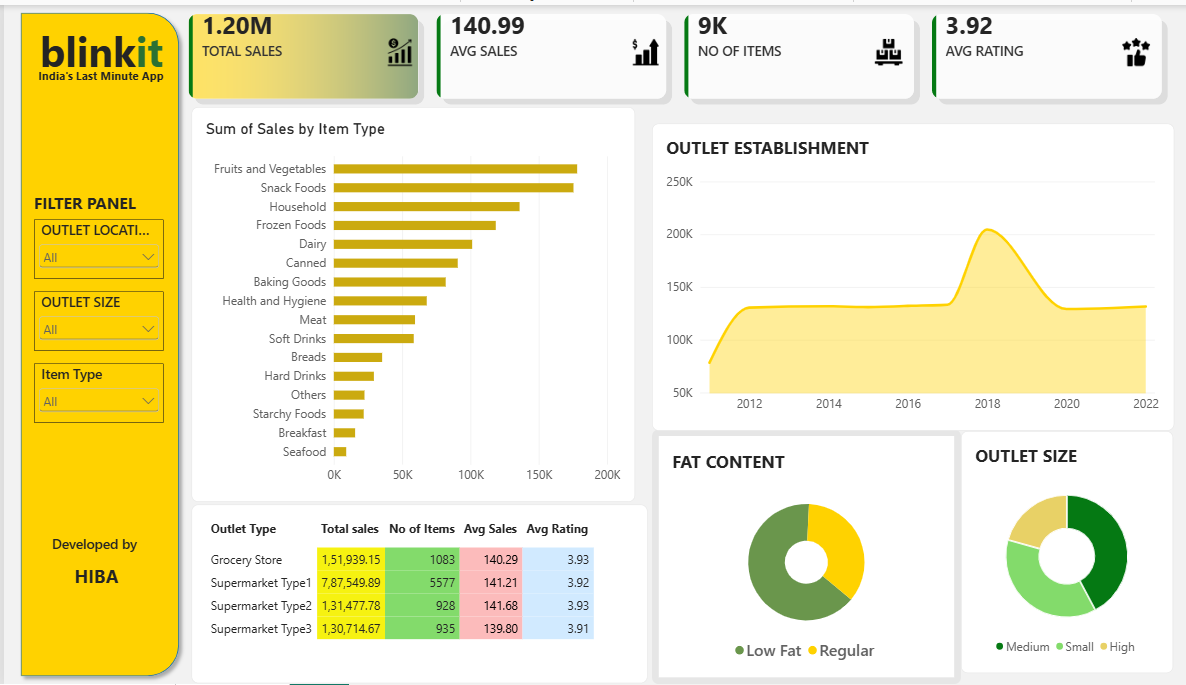

The dashboard page shown, as its layout file describes it:
{"tool":"powerbi","page":{"name":"BLINKIT DASHBOARD","canvas":[1400,800],"ordinal":0},"visuals":[{"type":"shape","box":[10.3,0,204.6,799.9],"z":0},{"type":"textbox","box":[35.1,20.7,159.2,64.1],"z":1000},{"type":"textbox","box":[41.3,72.3,173.6,22.7],"z":2000},{"type":"cardVisual","fields":{"Data":["BlinkIT Grocery Data.Total sales","BlinkIT Grocery Data.Avg Sales","BlinkIT Grocery Data.No of Items","BlinkIT Grocery Data.Avg Rating"]},"box":[206.7,0,1172,121.9],"z":3000},{"type":"donutChart","title":"FAT CONTENT","fields":{"Category":["BlinkIT Grocery Data.Item Fat Content"],"Y":["Sum(BlinkIT Grocery Data.Sales)"]},"box":[763.5,500.2,363.8,299.7],"z":4000},{"type":"clusteredBarChart","fields":{"Category":["BlinkIT Grocery Data.Item Type"],"Y":["Sum(BlinkIT Grocery Data.Sales)"]},"box":[221.2,119.9,522.9,465.1],"z":5000},{"type":"slicer","fields":{"Values":["BlinkIT Grocery Data.Outlet Location Type"]},"box":[35.1,252.2,153,70],"z":5001},{"type":"slicer","fields":{"Values":["BlinkIT Grocery Data.Outlet Size"]},"box":[35.1,336.9,153,70.3],"z":5002},{"type":"slicer","fields":{"Values":["BlinkIT Grocery Data.Item Type"]},"box":[35.1,421.7,153,70.3],"z":5003},{"type":"textbox","box":[227,422,364,328],"z":5004},{"type":"textbox","box":[35.1,221.2,153,51.7],"z":5006},{"type":"textbox","box":[55.8,624.2,159.2,33.1],"z":5007},{"type":"textbox","box":[82.7,657.3,59.9,35.1],"z":5008},{"type":"image","box":[436.1,39.3,59.9,33.1],"z":5009},{"type":"image","box":[725.5,39.3,59,33],"z":5010},{"type":"image","box":[1304.2,39.3,59,33],"z":5011},{"type":"image","box":[1012.8,39.3,59,33],"z":5012},{"type":"areaChart","title":"OUTLET ESTABLISHMENT","fields":{"Category":["BlinkIT Grocery Data.Outlet Establishment Year"],"Y":["Sum(BlinkIT Grocery Data.Sales)"]},"box":[763.5,139.6,615,362.3],"z":5013},{"type":"tableEx","fields":{"Values":["BlinkIT Grocery Data.Outlet Type","BlinkIT Grocery Data.Total sales","BlinkIT Grocery Data.No of Items","BlinkIT Grocery Data.Avg Sales","BlinkIT Grocery Data.Avg Rating"]},"box":[221.2,589.1,537.4,210.8],"z":5015},{"type":"donutChart","title":" OUTLET SIZE","fields":{"Category":["BlinkIT Grocery Data.Outlet Size"],"Y":["Sum(BlinkIT Grocery Data.Sales)"]},"box":[1127,502,250,285],"z":5016}]}

Visuals, with their boxes in screenshot pixels (x1, y1, x2, y2), scaled from the page's 1400x800 canvas onto the 1186x685 screenshot:
shape: {"left": 9, "top": 0, "right": 182, "bottom": 684}
textbox: {"left": 30, "top": 18, "right": 165, "bottom": 73}
textbox: {"left": 35, "top": 62, "right": 182, "bottom": 81}
cardVisual - BlinkIT Grocery Data.Total sales x BlinkIT Grocery Data.Avg Sales: {"left": 175, "top": 0, "right": 1168, "bottom": 104}
"FAT CONTENT" donutChart: {"left": 647, "top": 428, "right": 955, "bottom": 684}
clusteredBarChart - BlinkIT Grocery Data.Item Type x Sum(BlinkIT Grocery Data.Sales): {"left": 187, "top": 103, "right": 630, "bottom": 501}
slicer - BlinkIT Grocery Data.Outlet Location Type: {"left": 30, "top": 216, "right": 159, "bottom": 276}
slicer - BlinkIT Grocery Data.Outlet Size: {"left": 30, "top": 288, "right": 159, "bottom": 349}
slicer - BlinkIT Grocery Data.Item Type: {"left": 30, "top": 361, "right": 159, "bottom": 421}
textbox: {"left": 192, "top": 361, "right": 501, "bottom": 642}
textbox: {"left": 30, "top": 189, "right": 159, "bottom": 234}
textbox: {"left": 47, "top": 534, "right": 182, "bottom": 563}
textbox: {"left": 70, "top": 563, "right": 121, "bottom": 593}
image: {"left": 369, "top": 34, "right": 420, "bottom": 62}
image: {"left": 615, "top": 34, "right": 665, "bottom": 62}
image: {"left": 1105, "top": 34, "right": 1155, "bottom": 62}
image: {"left": 858, "top": 34, "right": 908, "bottom": 62}
"OUTLET ESTABLISHMENT" areaChart: {"left": 647, "top": 120, "right": 1168, "bottom": 430}
tableEx - BlinkIT Grocery Data.Outlet Type x BlinkIT Grocery Data.Total sales: {"left": 187, "top": 504, "right": 643, "bottom": 684}
" OUTLET SIZE" donutChart: {"left": 955, "top": 430, "right": 1167, "bottom": 674}
